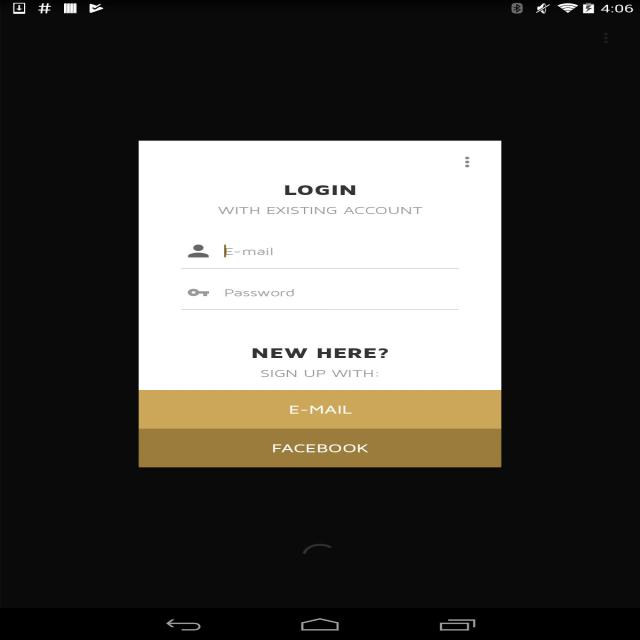button: (140, 391, 501, 429), (140, 431, 501, 468), (460, 152, 474, 171)
field: (183, 235, 462, 268), (183, 276, 461, 307)
heading: (280, 182, 361, 198)
image: (185, 286, 212, 300), (188, 242, 208, 258)
label: (222, 284, 296, 300), (223, 242, 276, 260)
text: (213, 204, 425, 218), (251, 346, 391, 360), (260, 368, 382, 380)
